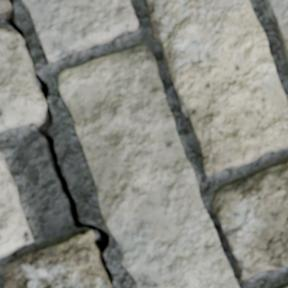brick: (59, 44, 238, 287), (145, 0, 287, 175), (212, 159, 287, 279), (22, 0, 137, 63), (3, 231, 111, 287), (0, 28, 44, 131), (0, 153, 33, 257), (265, 0, 287, 60), (0, 0, 9, 11)
crack: (0, 0, 112, 285)
